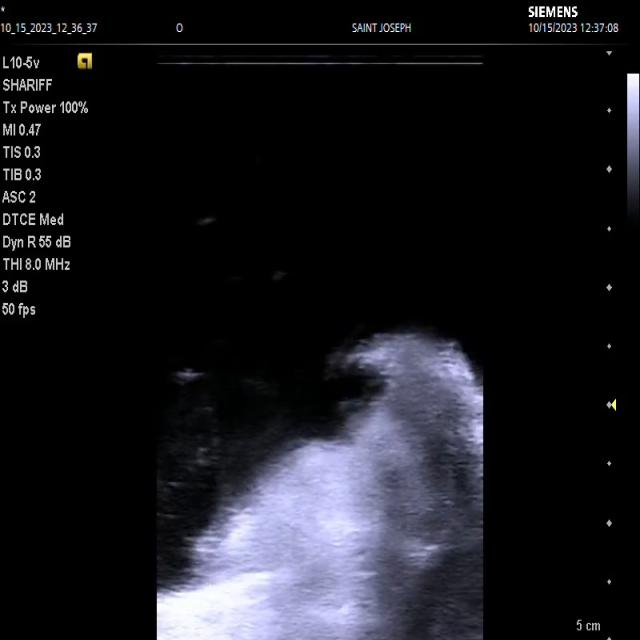tissue: (158, 333, 483, 640)
